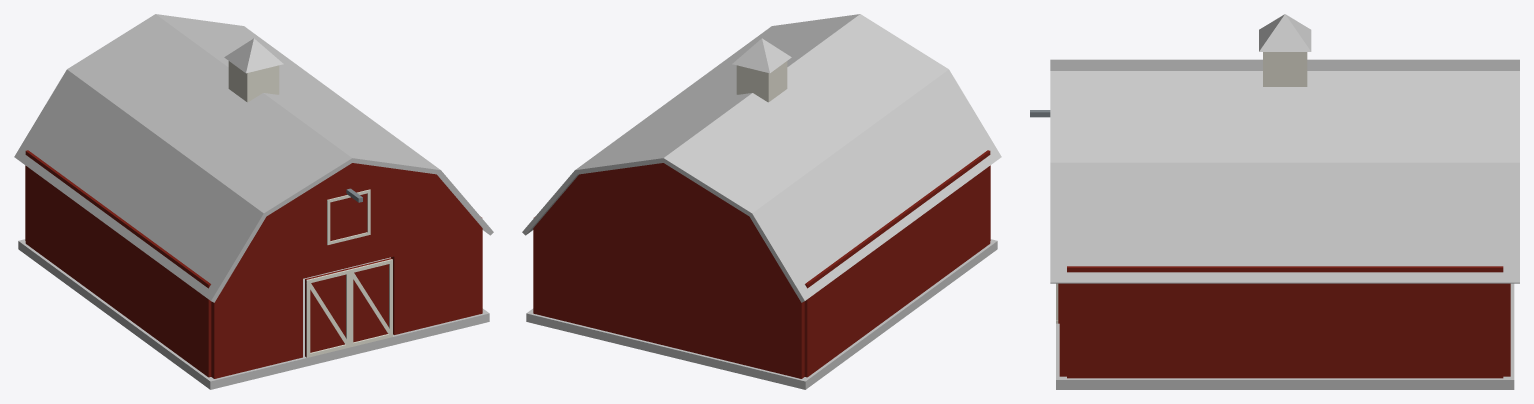
The model's file is gambrel_barn.gltf.
The picture shows the model from 3 angles, left to right: view 1: azimuth 30°, elevation 25°; view 2: azimuth 150°, elevation 25°; view 3: azimuth 270°, elevation 25°; orthographic projection. The views are drawn at different scales.
Parts seen in each view (by area): view 1: Gambrel.020, Gambrel.021, Wall.006, Gable.024, Gambrel.023, Wall.002, Wall.003, Footing.001, Door.008, Door.014, Cupola.032, Wall.004 (+3 smaller); view 2: Wall.005, Gambrel.020, Gambrel.021, Wall.006, Gable.025, Gambrel.023, Footing.001, Cupola.032, CupolaRoof.033, Gambrel.022; view 3: Gambrel.022, Wall.007, Gambrel.023, Footing.001, Gambrel.021, CupolaRoof.033, Cupola.032, Wall.005, Wall.003.
Boxes of the visible parts, <box> form: Gambrel.020: <box>14,69,266,302</box>; Gambrel.021: <box>67,14,353,216</box>; Wall.006: <box>25,150,211,377</box>; Gable.024: <box>226,163,476,283</box>; Gambrel.023: <box>156,14,440,174</box>; Wall.002: <box>211,265,302,378</box>; Wall.003: <box>391,222,482,334</box>; Footing.001: <box>18,239,489,389</box>; Door.008: <box>305,268,348,356</box>; Door.014: <box>348,258,391,342</box>; Cupola.032: <box>228,61,279,102</box>; Wall.004: <box>303,242,394,278</box>; Wall.005: <box>533,222,804,378</box>; Gambrel.020: <box>749,69,1001,302</box>; Gambrel.021: <box>662,14,948,216</box>; Wall.006: <box>804,150,990,377</box>; Gable.025: <box>539,163,789,283</box>; Gambrel.023: <box>575,14,859,174</box>; Footing.001: <box>526,239,997,389</box>; Cupola.032: <box>736,61,787,102</box>; CupolaRoof.033: <box>732,38,791,73</box>; Gambrel.022: <box>522,170,578,235</box>; Gambrel.022: <box>1050,162,1519,283</box>; Wall.007: <box>1067,266,1503,378</box>; Gambrel.023: <box>1050,71,1519,162</box>; Footing.001: <box>1056,283,1514,389</box>; Gambrel.021: <box>1050,59,1519,70</box>; CupolaRoof.033: <box>1259,14,1311,51</box>; Cupola.032: <box>1263,52,1307,86</box>; Wall.005: <box>1503,283,1510,376</box>; Wall.003: <box>1059,283,1066,376</box>.
Bounding box in the file's own units: 10.53 × 8.8 × 13.25.
